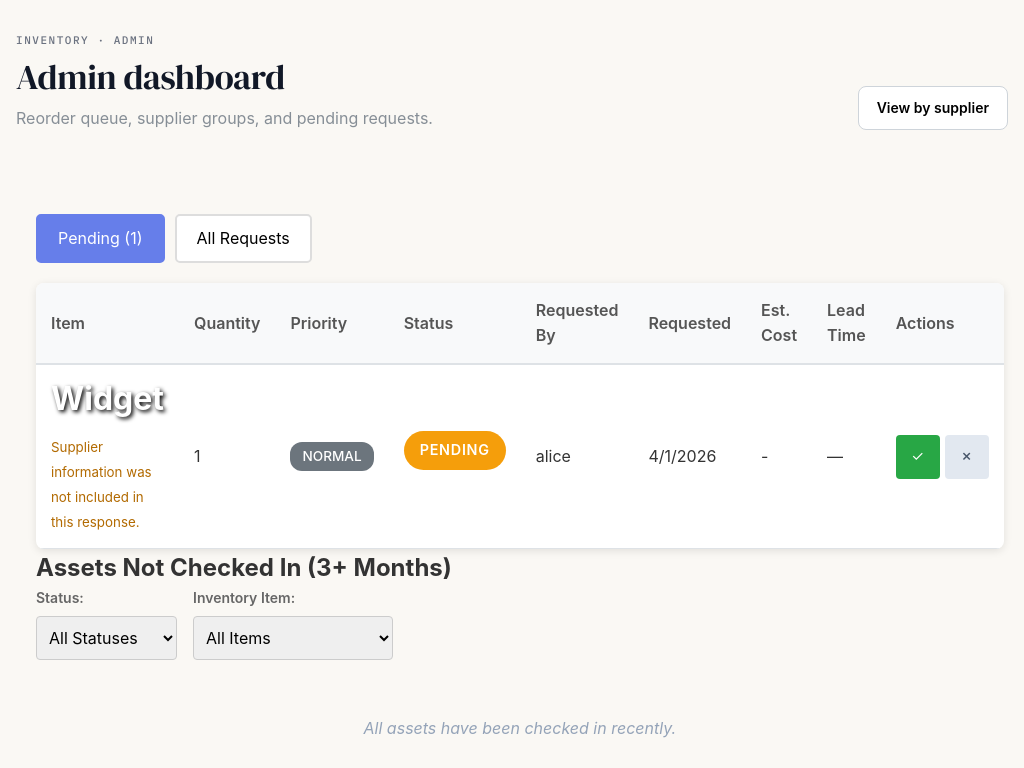
AdminDashboard — cancel flow › prompts for cancellation reason and posts it to the API
The width and height of the screenshot is (1024, 768).
Click the button titled "Cancel": click(967, 457) [945, 435, 989, 479]
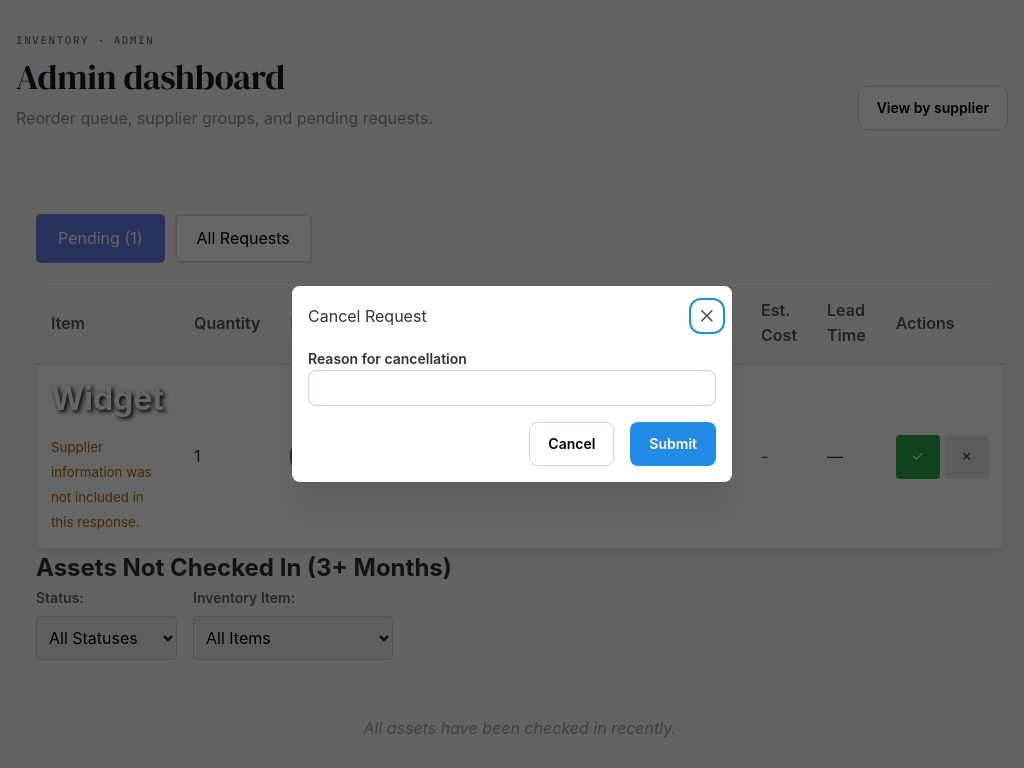
In the field labelled "Reason for cancellation": (512, 388) [308, 370, 716, 406], type "Duplicate order"
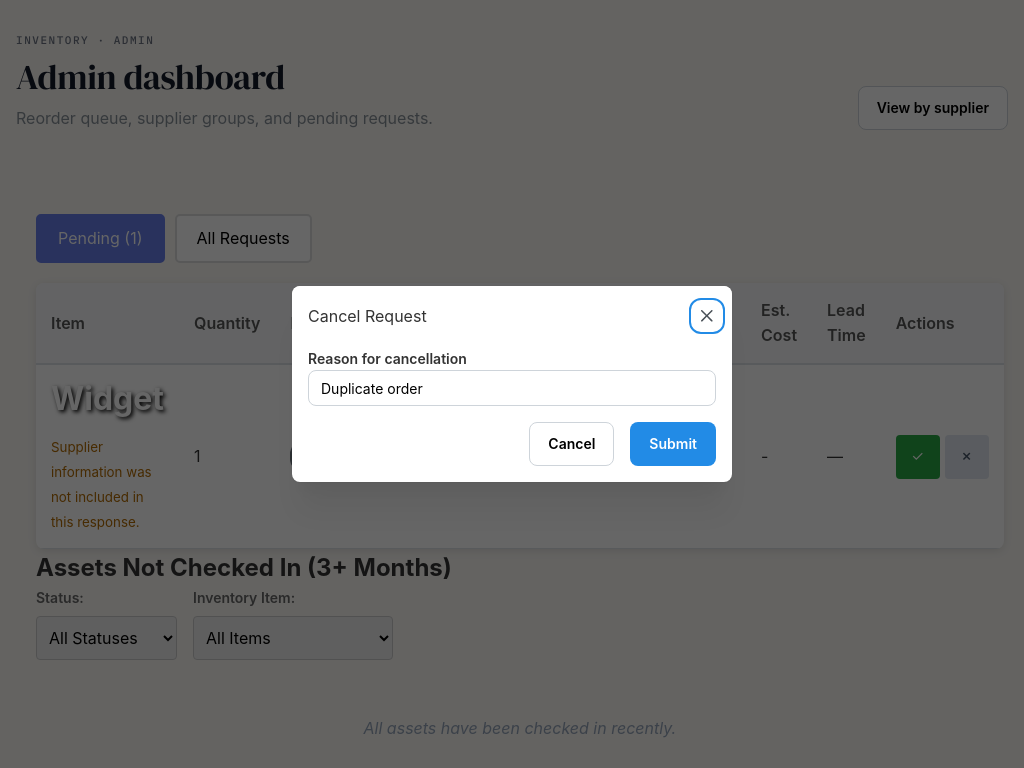
Click the button "Submit": click(673, 444) [630, 422, 716, 466]
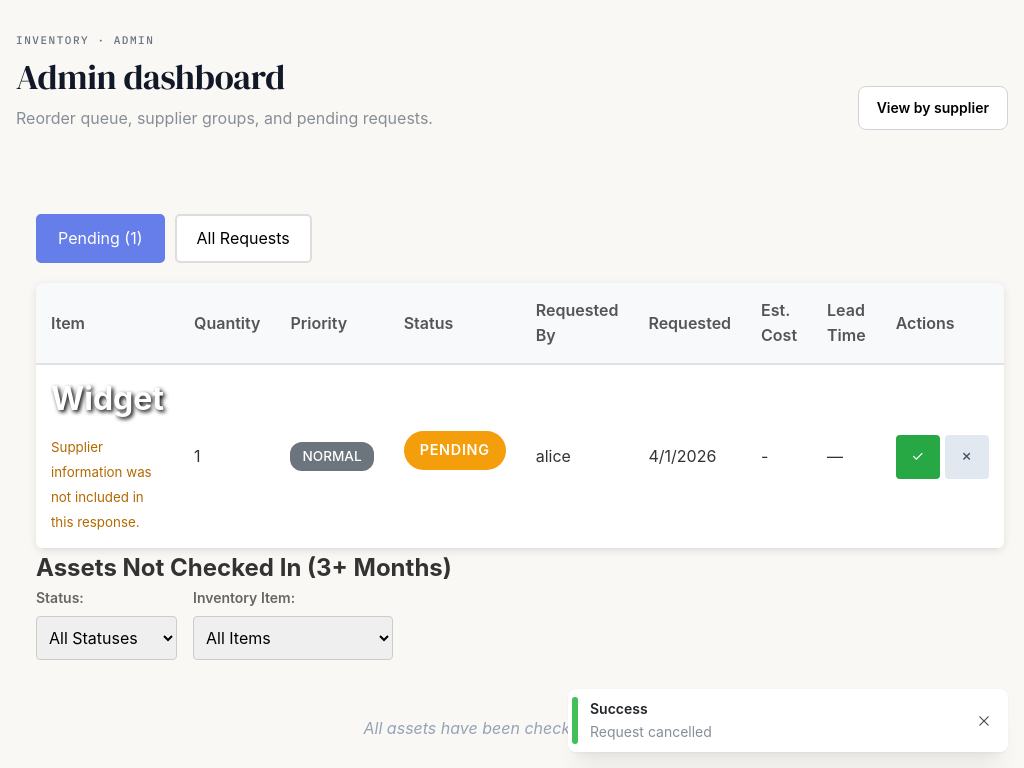
Check: the text "Request cancelled" is shown, box [590, 723, 712, 740]
